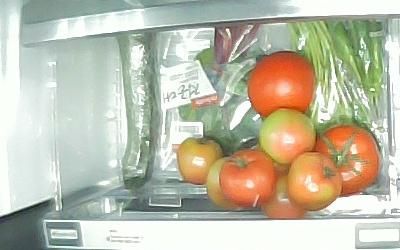tomato: (247, 51, 316, 120), (319, 125, 379, 195), (221, 150, 278, 209), (259, 107, 317, 164), (288, 153, 343, 212), (178, 135, 223, 185), (261, 169, 306, 219), (206, 156, 239, 210)
